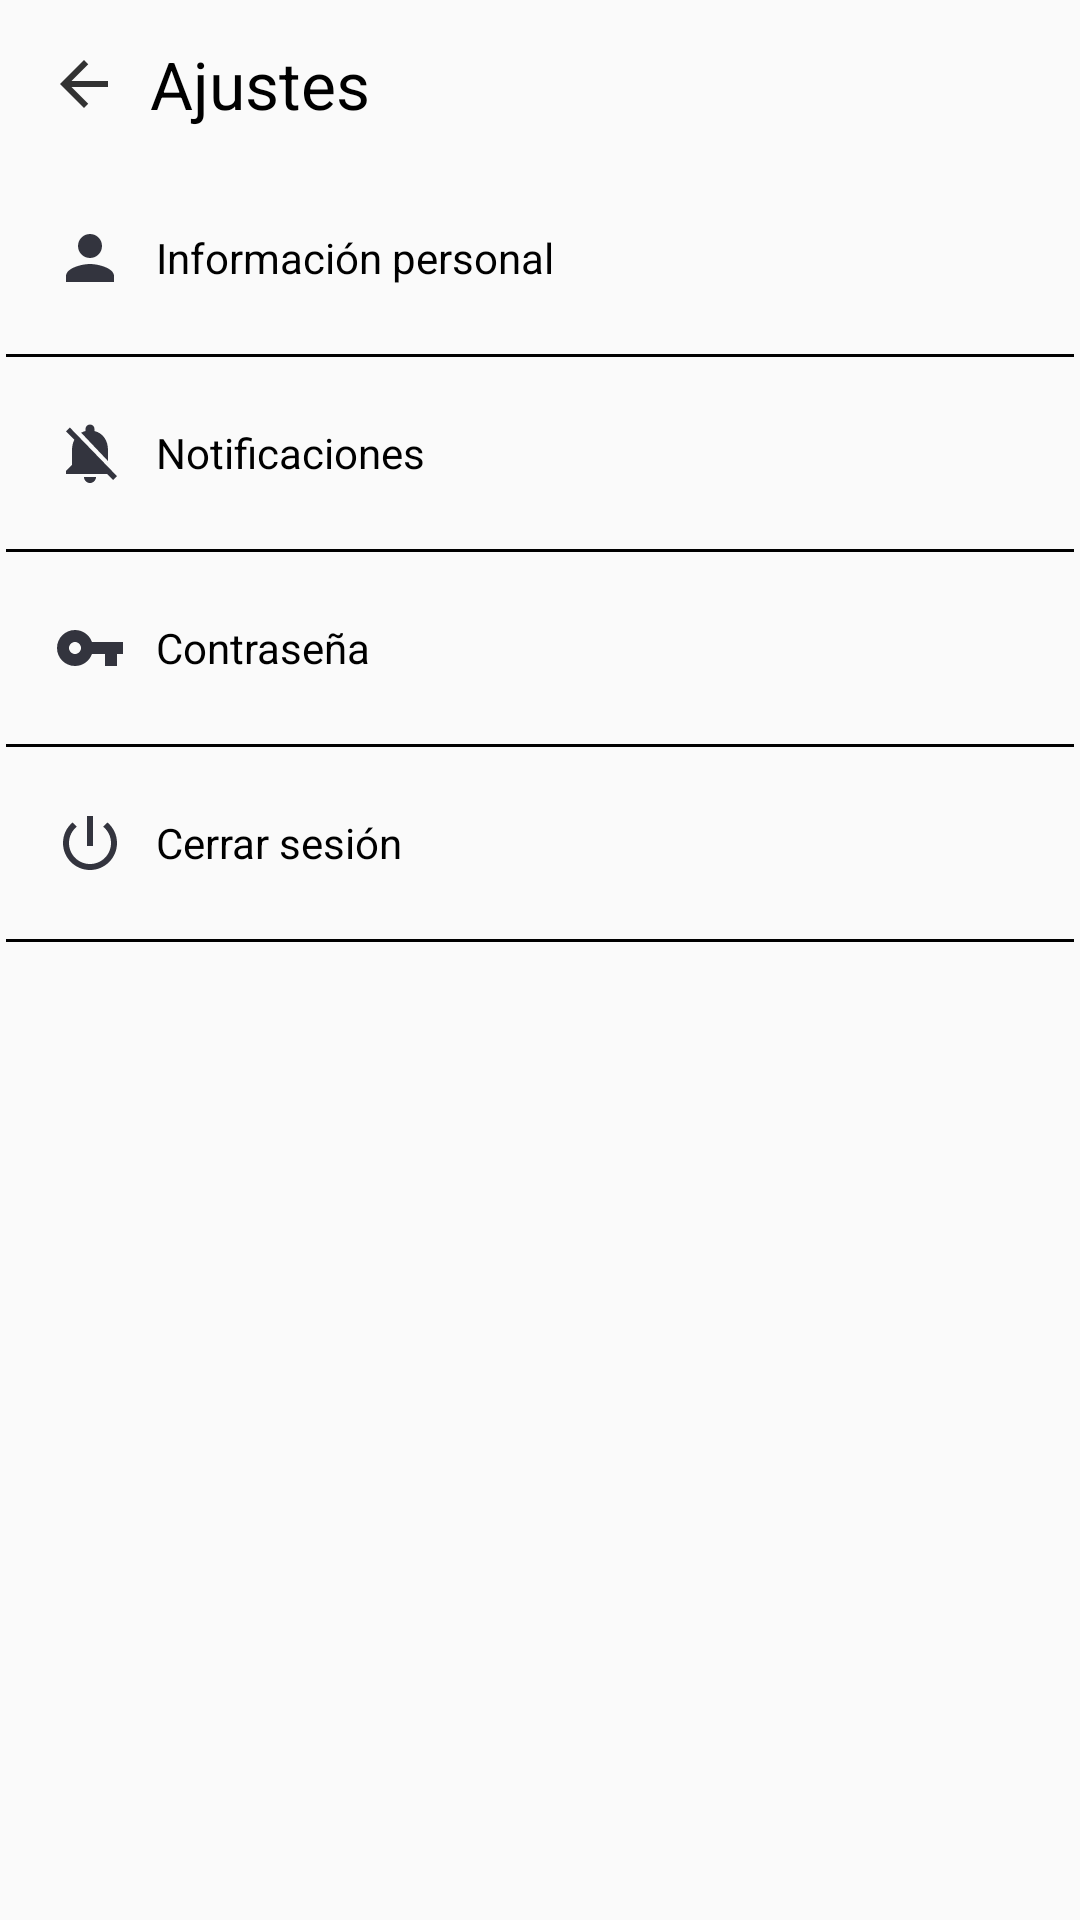

Where to tap for icons on this 1080px x 1920px app screen, as point (x, y):
atras: point (84, 84)
datos: point (90, 258)
